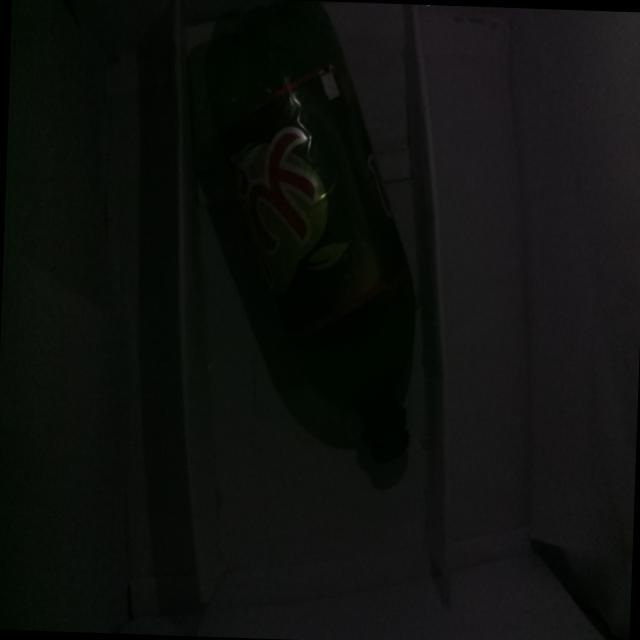good: (154, 0, 454, 512)
